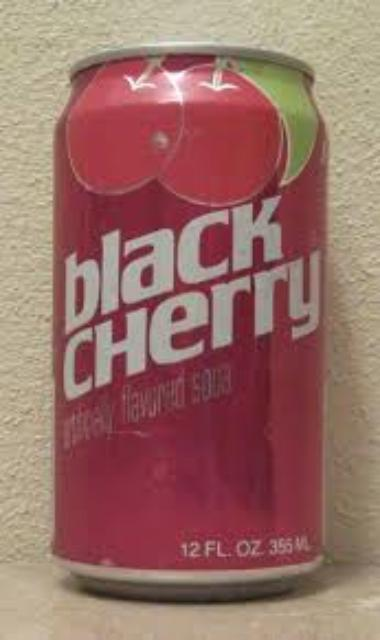metal: (51, 42, 323, 592)
